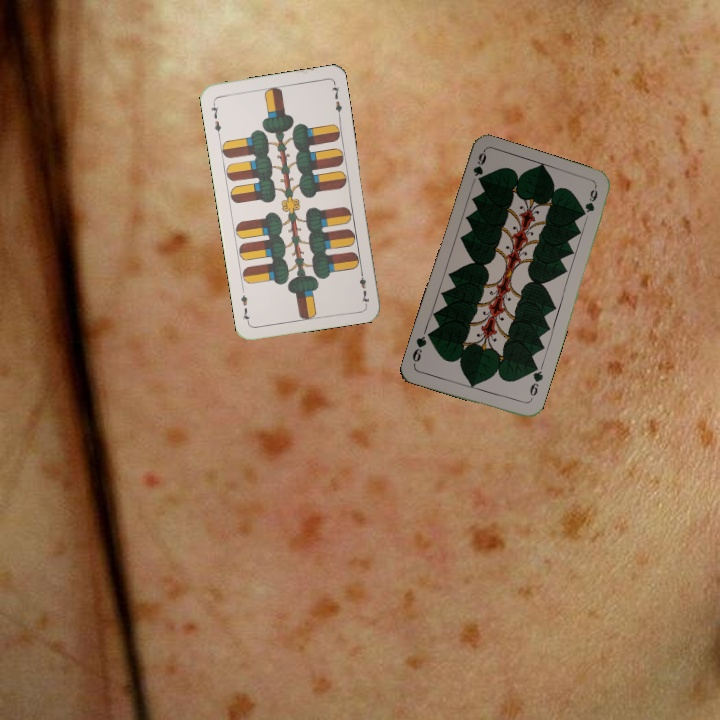E7: (207, 98, 224, 138), (355, 266, 372, 306)
G9: (525, 363, 546, 404), (469, 148, 489, 186)
